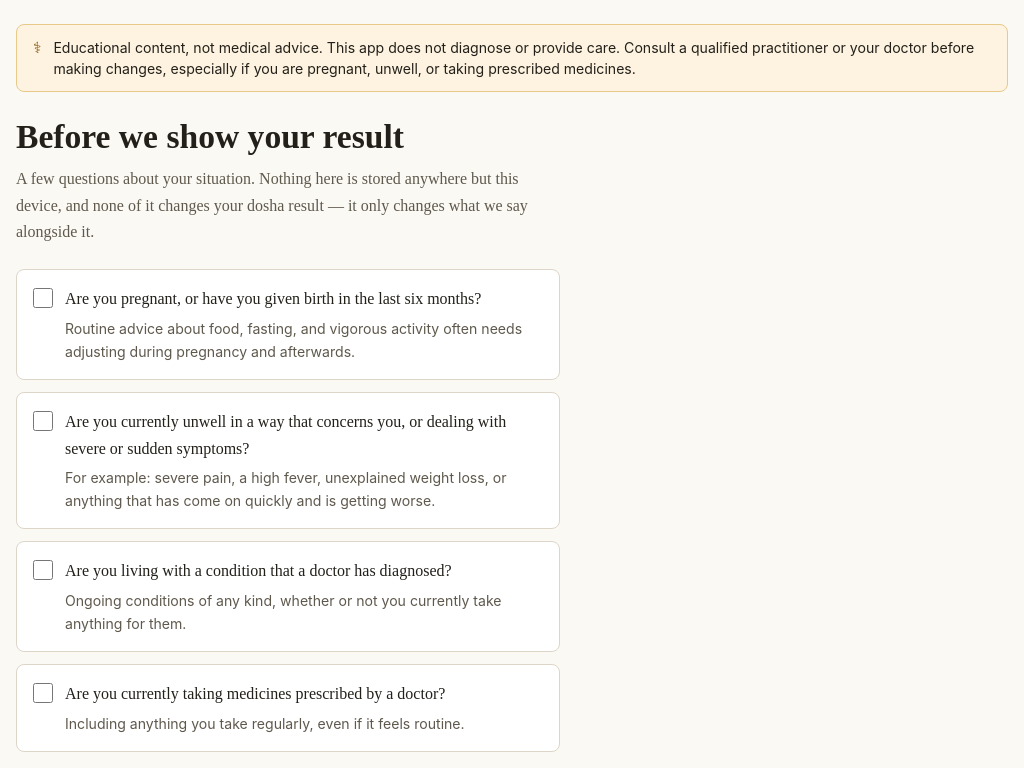
results are gated behind acknowledgement › un-ticking a flag resets the acknowledgement
Click the 1st checkbox at (43, 298), box [33,288,53,308]
(page scrolled)
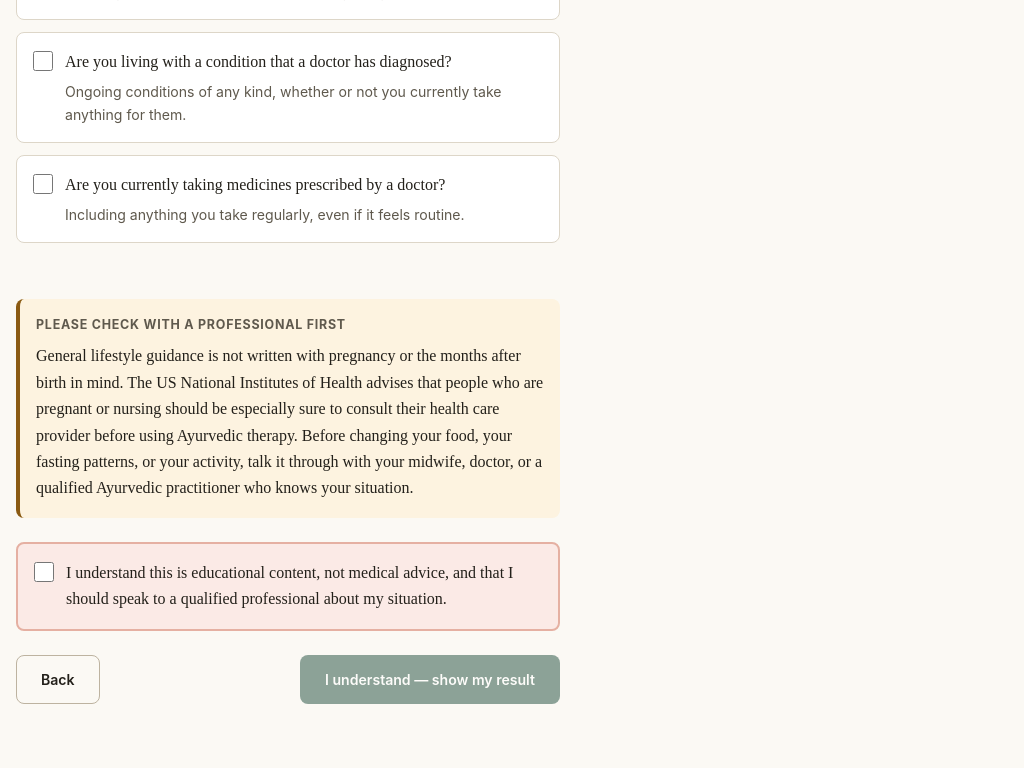
Click the checkbox with test id "red-flag-acknowledge" at (44, 572), box [34,562,54,582]
(page scrolled)
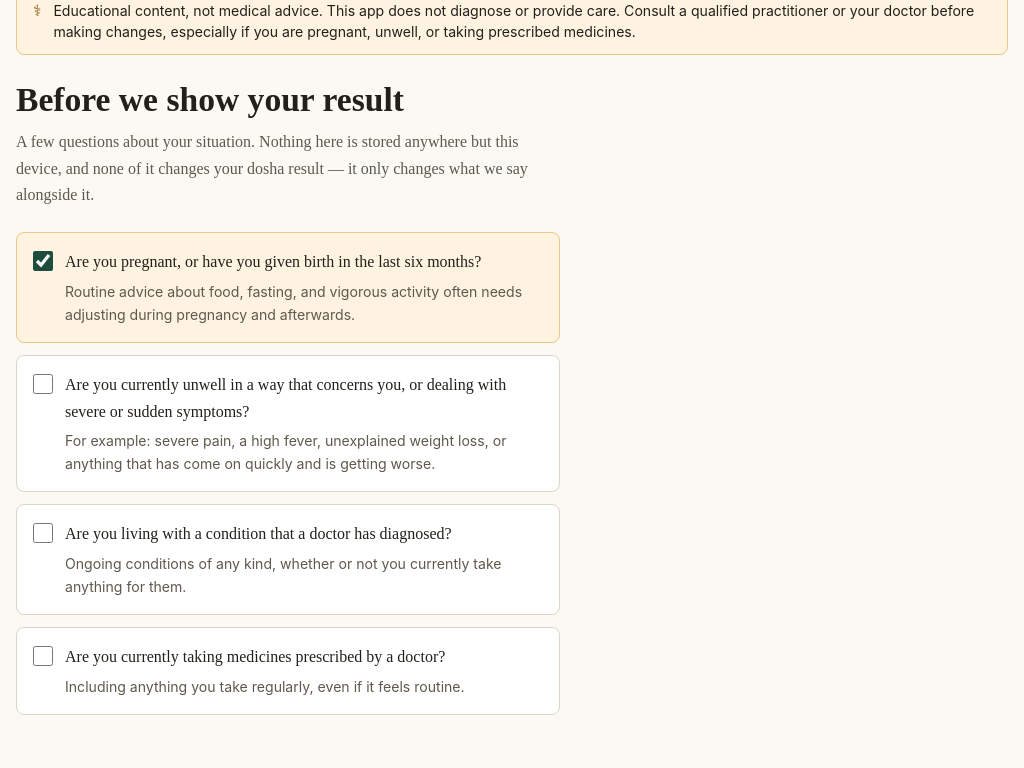
Click the 2nd checkbox at (43, 384), box [33,374,53,394]
(page scrolled)
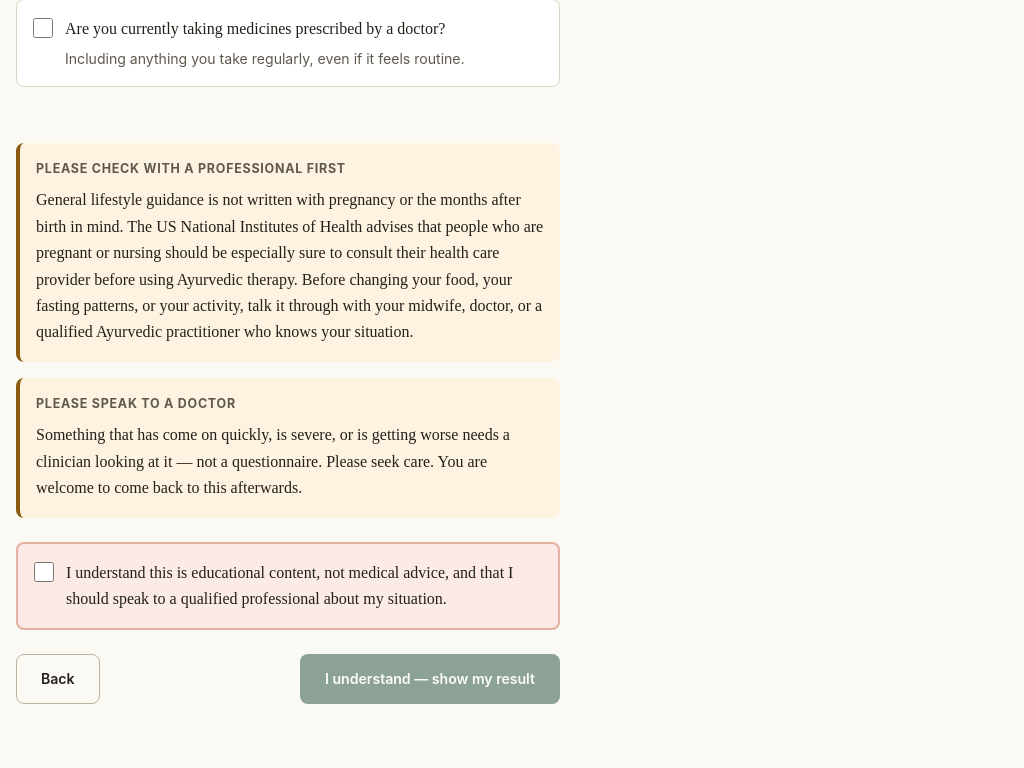
Result: the button with test id "red-flag-continue" is disabled at [300,654,560,704]
